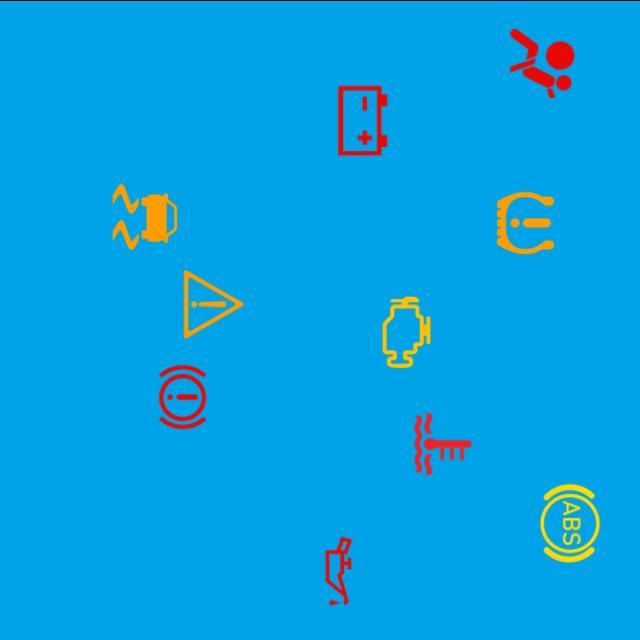Anti Lock Braking System: (527, 479, 613, 565)
Braking System Issue: (140, 353, 226, 439)
Charging System Issue: (320, 77, 406, 163)
Check Engine: (364, 288, 449, 374)
Electronic Stability Problem -ESP-: (102, 173, 188, 259)
Engine Overheating Warning Light: (400, 400, 486, 486)
Low Engine Oil Warning Light: (296, 527, 382, 613)
Low Tire Pressure Warning Light: (482, 179, 568, 265)
Master warning light: (170, 260, 256, 346)
SRS-Airbag: (499, 20, 585, 106)
